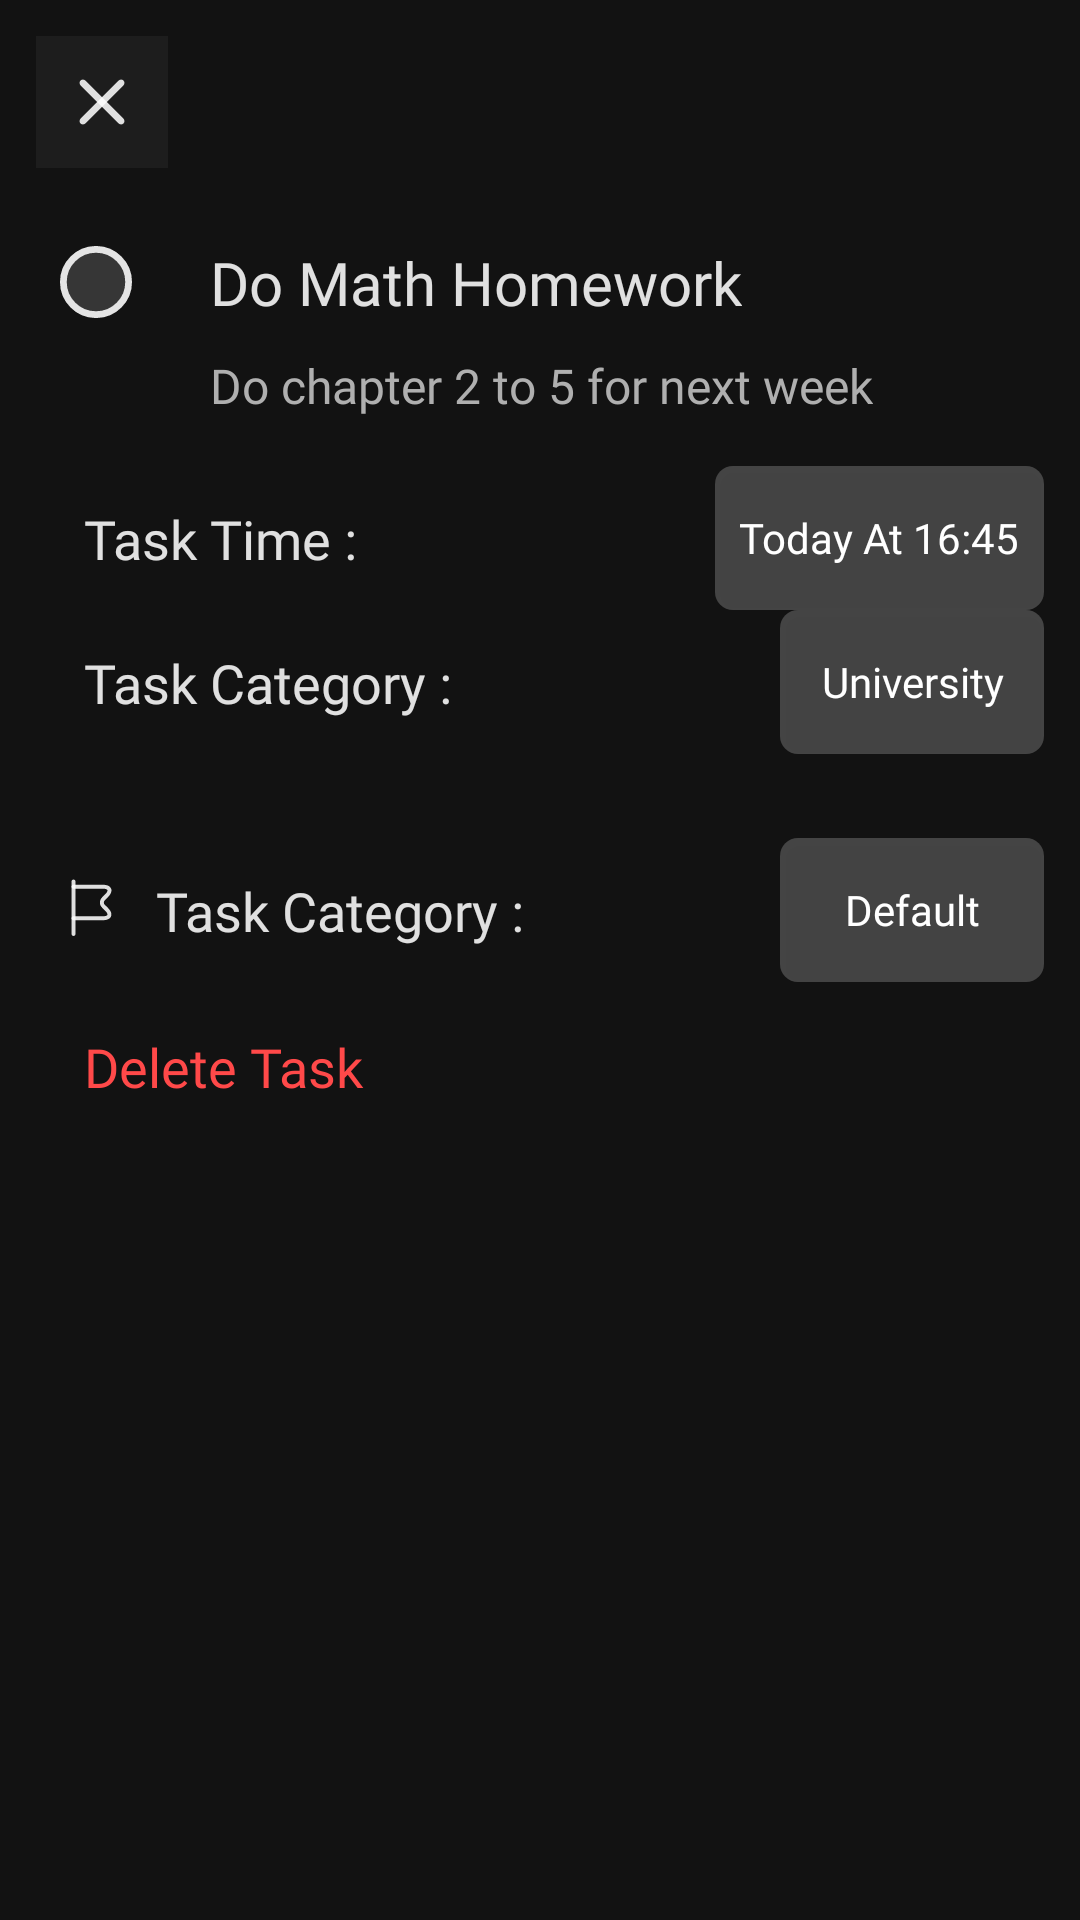

Point at icon controls on the screen. Image size 1080 x 1920, points as [x,y].
close: [102,102]
flag: [91,907]
